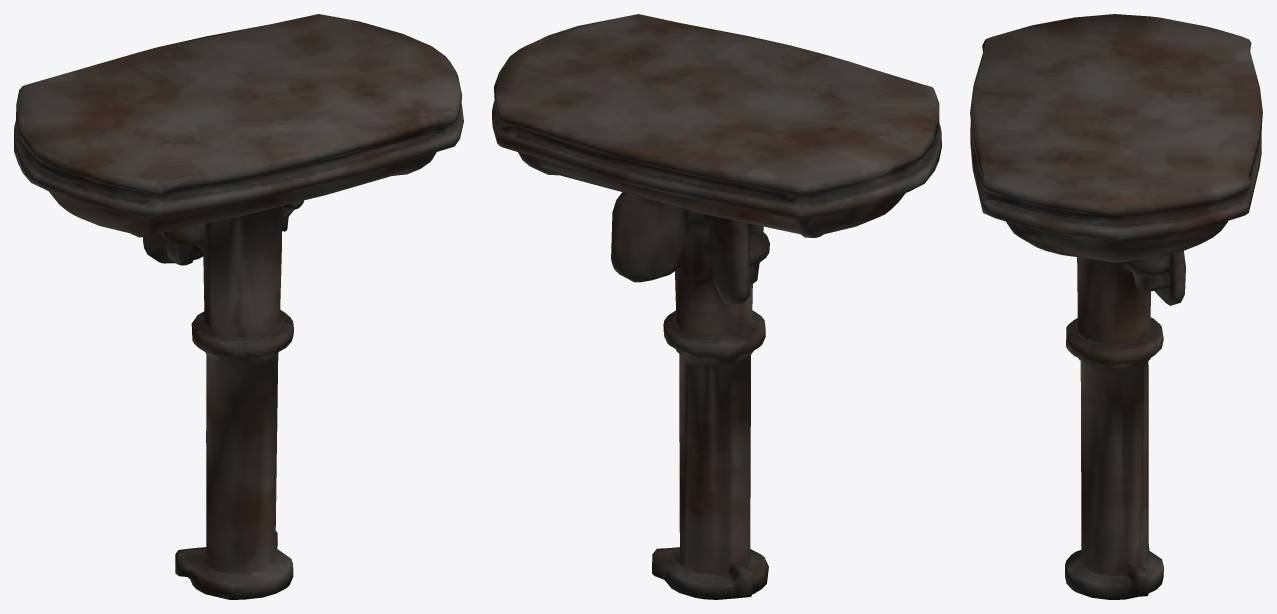
File: simple-iron-drainpipe-v002.glb
The picture shows the model from 3 angles, left to right: view 1: azimuth 30°, elevation 25°; view 2: azimuth 150°, elevation 25°; view 3: azimuth 270°, elevation 25°; orthographic projection. The views are drawn at different scales.
Parts seen in each view (by area): view 1: simple-iron-drainpipe; view 2: simple-iron-drainpipe; view 3: simple-iron-drainpipe.
Boxes of the visible parts, x1=… form: simple-iron-drainpipe: x1=14, y1=14, x2=463, y2=599; simple-iron-drainpipe: x1=492, y1=14, x2=941, y2=599; simple-iron-drainpipe: x1=970, y1=14, x2=1262, y2=599.
Bounding box in the file's own units: 2.77 × 3.07 × 1.73.
1 material, 1 textured.
